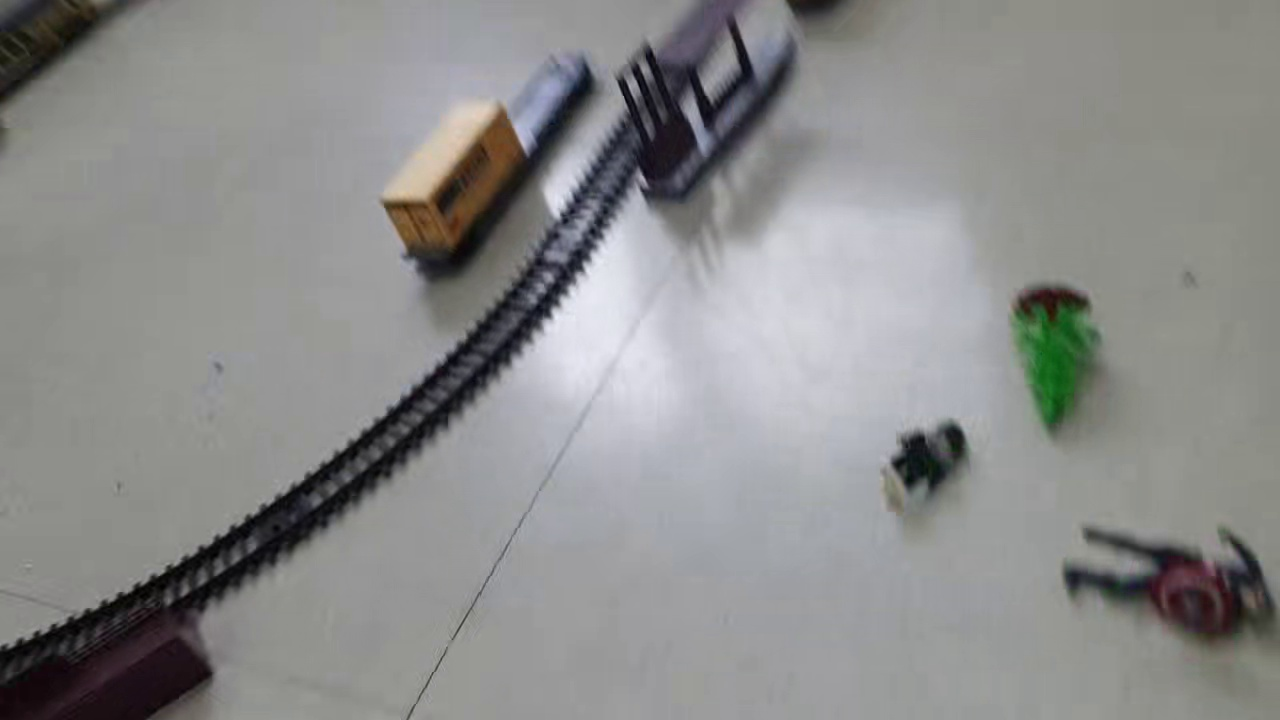people: (1057, 515, 1280, 645), (883, 421, 977, 507)
tree: (1011, 279, 1113, 442)
